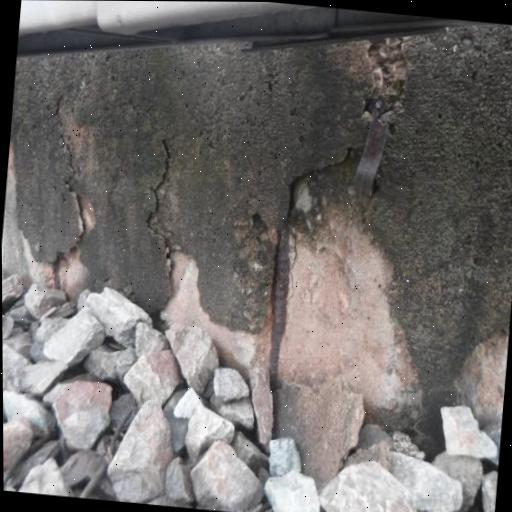exposed_rebar: (269, 225, 290, 388), (354, 117, 388, 195)
